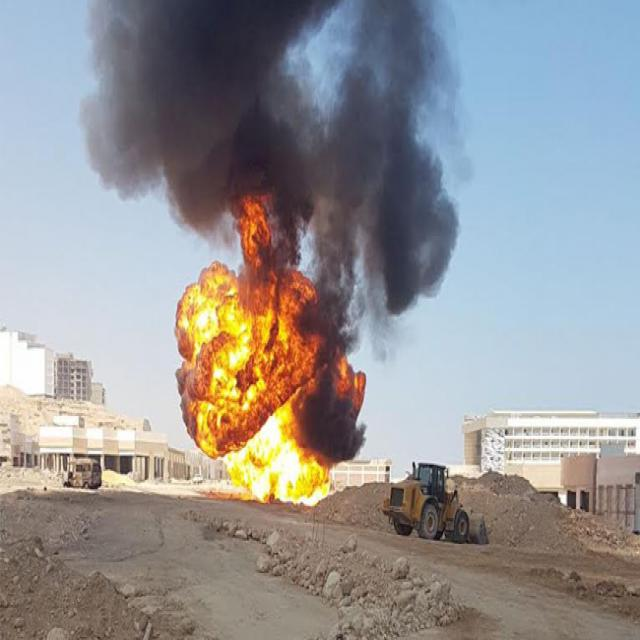Fire: (174, 264, 316, 462), (228, 421, 332, 509)
Smoke: (79, 0, 475, 352), (305, 370, 367, 469)
